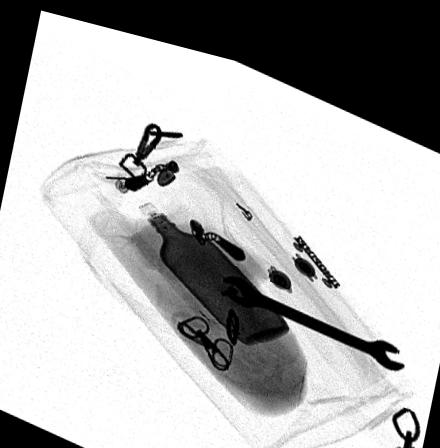Wrench: (219, 260, 405, 350)
